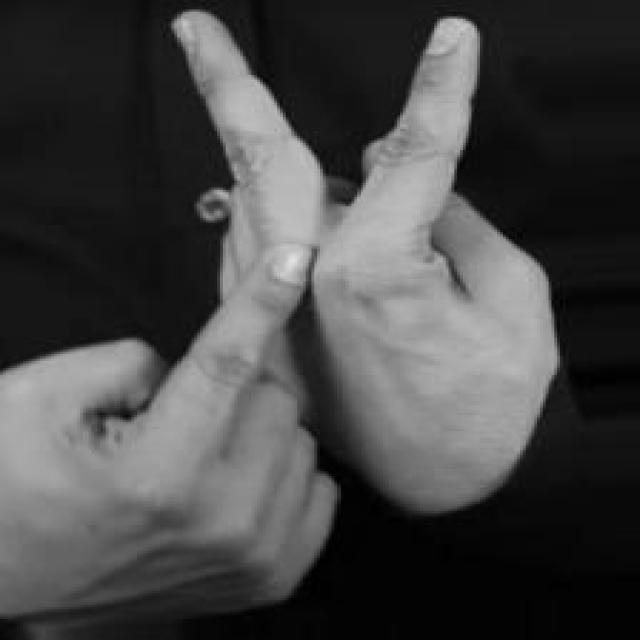Y: (4, 14, 561, 640)
